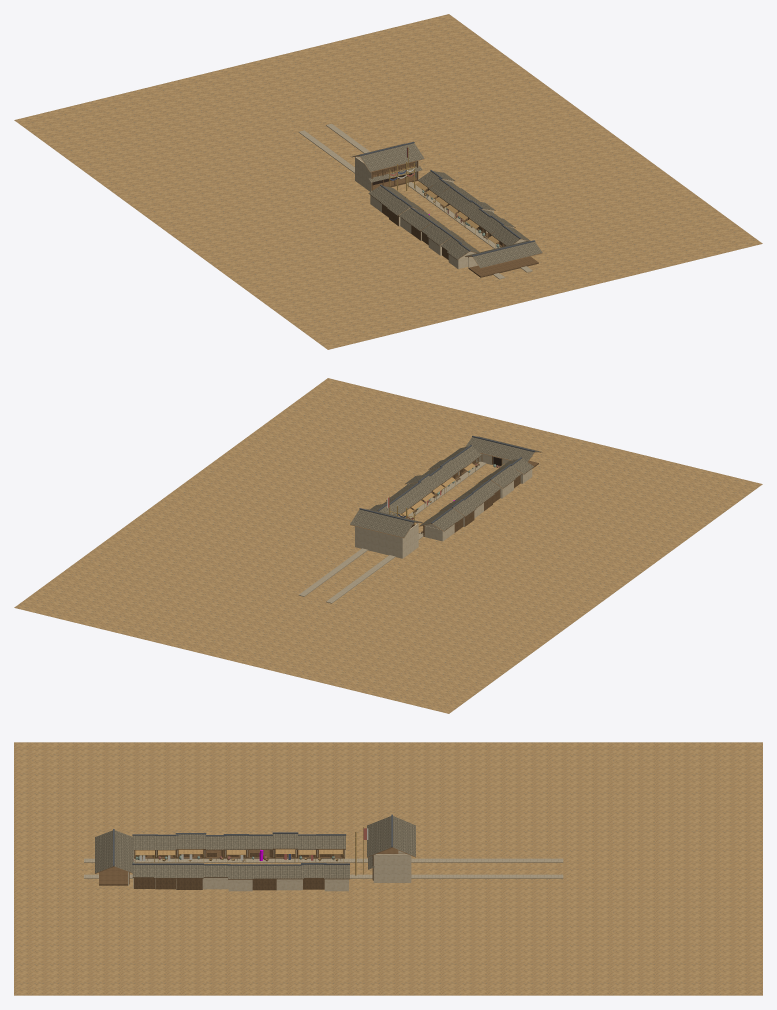
File: street_b1.glb
3 renders of one model, top to bottom at view 1: azimuth 30°, elevation 25°; view 2: azimuth 150°, elevation 25°; view 3: azimuth 270°, elevation 25°, orthographic. The views are drawn at different scales.
Parts seen in each view (by area): view 1: earth__col, roof__nocol, timber__col, paving__col, plaster__col, timber__nocol, ridge__nocol; view 2: earth__col, roof__nocol, plaster__col, paving__col, ridge__nocol, timber__col; view 3: earth__col, roof__nocol, timber__col, paving__col, plaster__col, ridge__nocol, reed__nocol, timber__nocol.
Part boxes in pixels (x1,y1,x2,y2): earth__col: (14,14,762,349); roof__nocol: (350,143,542,267); timber__col: (371,161,538,277); paving__col: (298,123,532,279); plaster__col: (355,156,513,268); timber__nocol: (351,156,542,268); ridge__nocol: (359,141,535,256); earth__col: (14,378,762,713); roof__nocol: (350,436,541,537); plaster__col: (355,454,532,558); paving__col: (298,456,532,603); ridge__nocol: (359,435,535,523); timber__col: (401,455,538,536); earth__col: (14,742,762,995); roof__nocol: (95,816,415,878); timber__col: (99,849,406,890); paving__col: (84,858,563,878); plaster__col: (128,850,411,891); ridge__nocol: (113,814,392,866); reed__nocol: (135,849,343,854); timber__nocol: (95,847,415,879).
Bounding box in the file's own units: 120 × 10.52 × 150.
15 materials, 6 textured.
